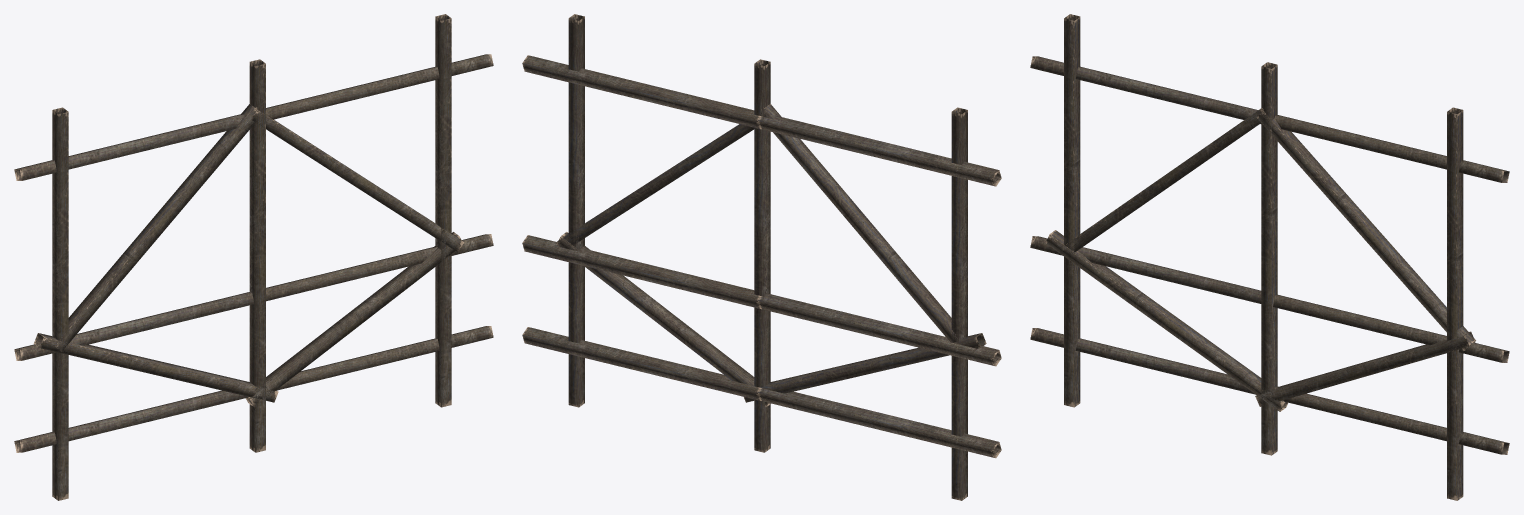
The model's file is Scaffolding_Wall.fbx.
3 renders of one model, left to right at view 1: azimuth 30°, elevation 25°; view 2: azimuth 150°, elevation 25°; view 3: azimuth 330°, elevation 25°, orthographic.
Parts seen in each view (by area): view 1: CDTMesh_Scaffolding_Wall_LOD; view 2: CDTMesh_Scaffolding_Wall_LOD; view 3: CDTMesh_Scaffolding_Wall_LOD.
Part boxes in pixels (x1,y1,x2,y2): CDTMesh_Scaffolding_Wall_LOD: (14,14,493,500); CDTMesh_Scaffolding_Wall_LOD: (522,14,1001,500); CDTMesh_Scaffolding_Wall_LOD: (1030,14,1509,500).
Size of what is drawn, in the model's own units: 9.44 by 7.39 by 0.3138.
